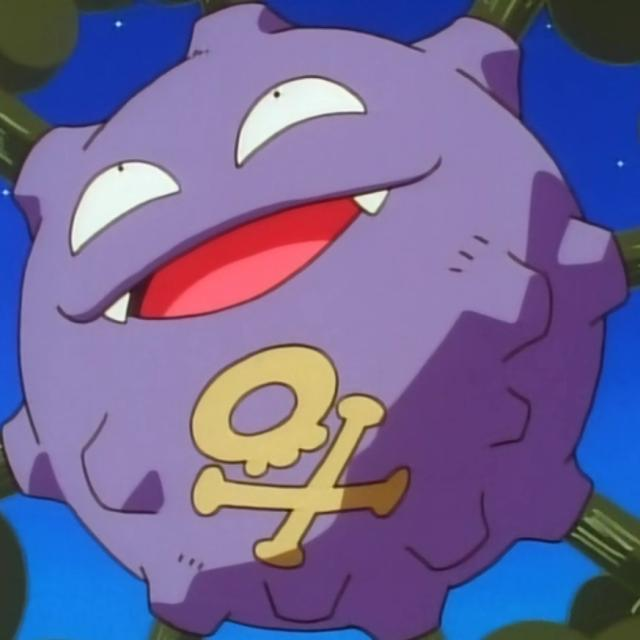Koffing: (1, 11, 626, 640)
